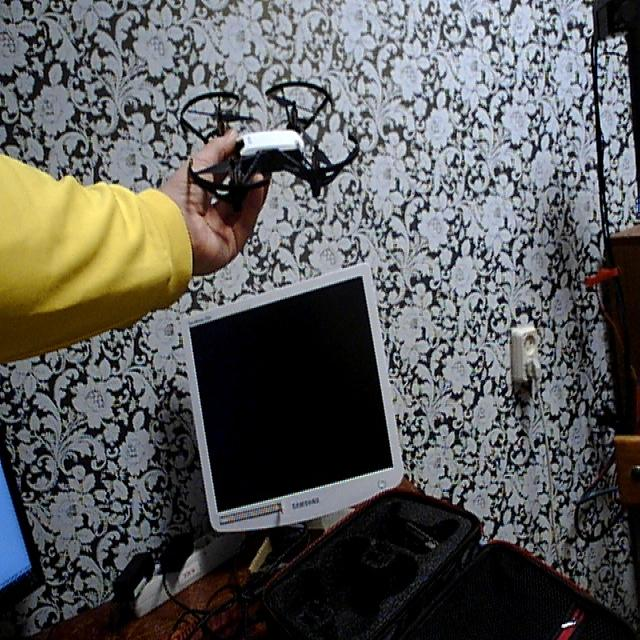drone: (178, 66, 366, 212)
